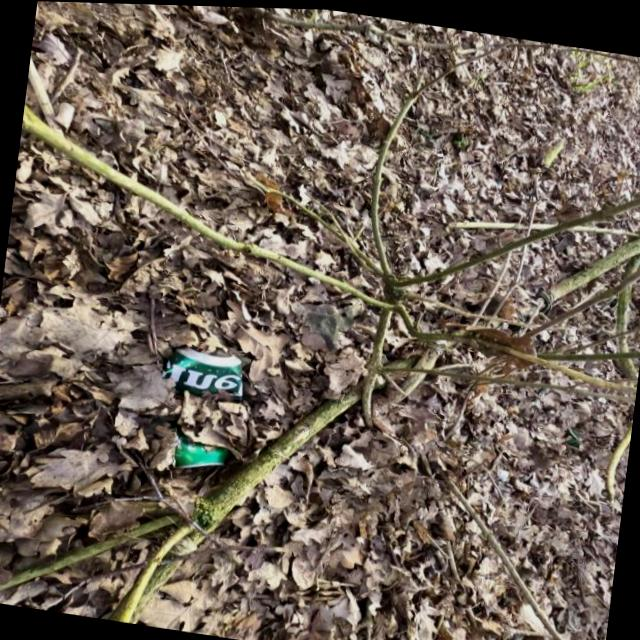Can-Metal: (147, 333, 252, 478)
